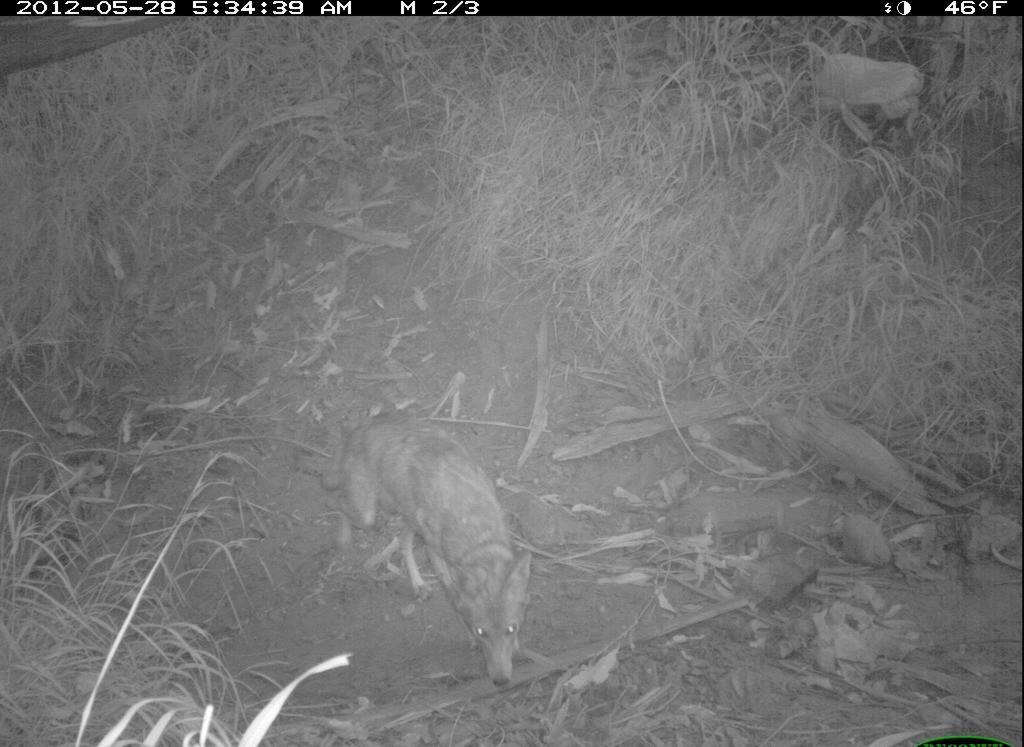coyote: (324, 409, 536, 701)
